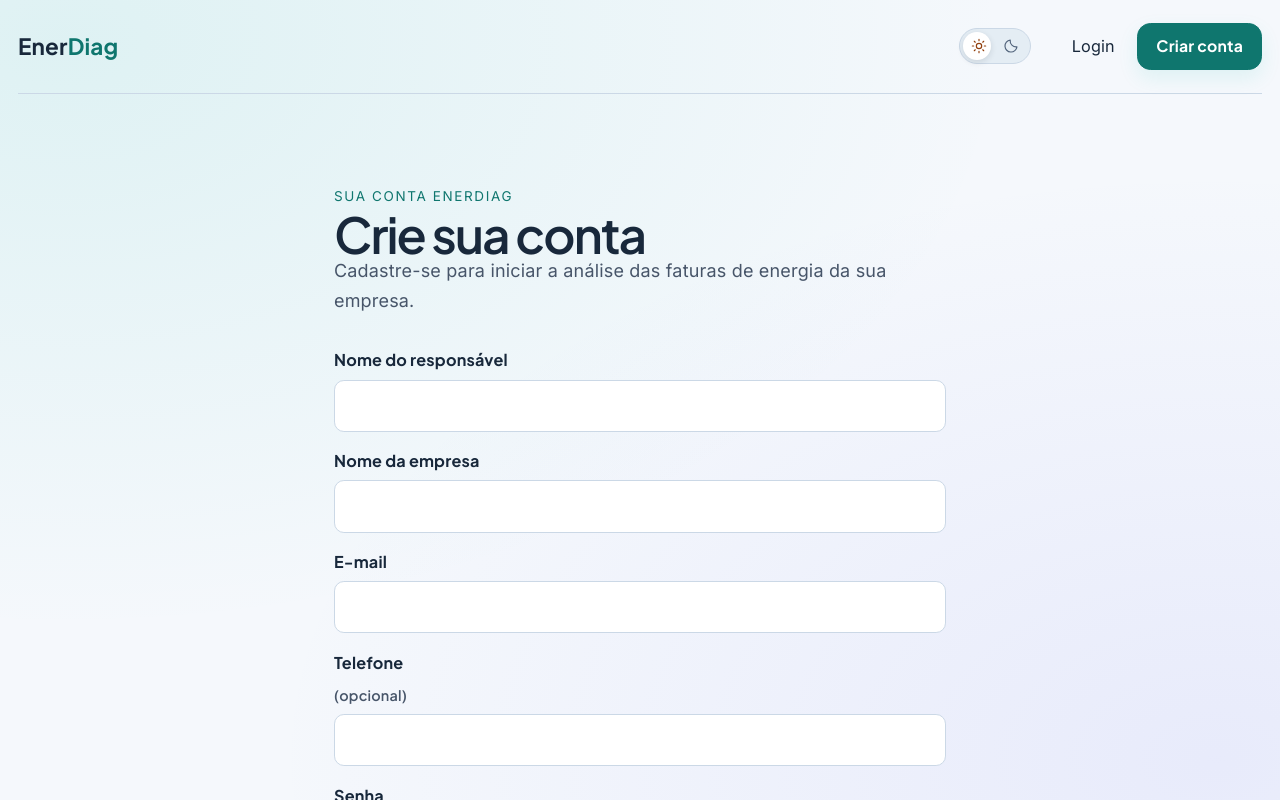
Test: customer registration › submits registration and opens email verification
Type "Ana Souza" into the field labelled "Nome do responsável" at (640, 406), box x1=334 y1=380 x2=946 y2=432
Type "Empresa Exemplo" into the field labelled "Nome da empresa" at (640, 506), box x1=334 y1=480 x2=946 y2=533
Type "ana@example.com" into the field labelled "E-mail" at (640, 607), box x1=334 y1=581 x2=946 y2=633
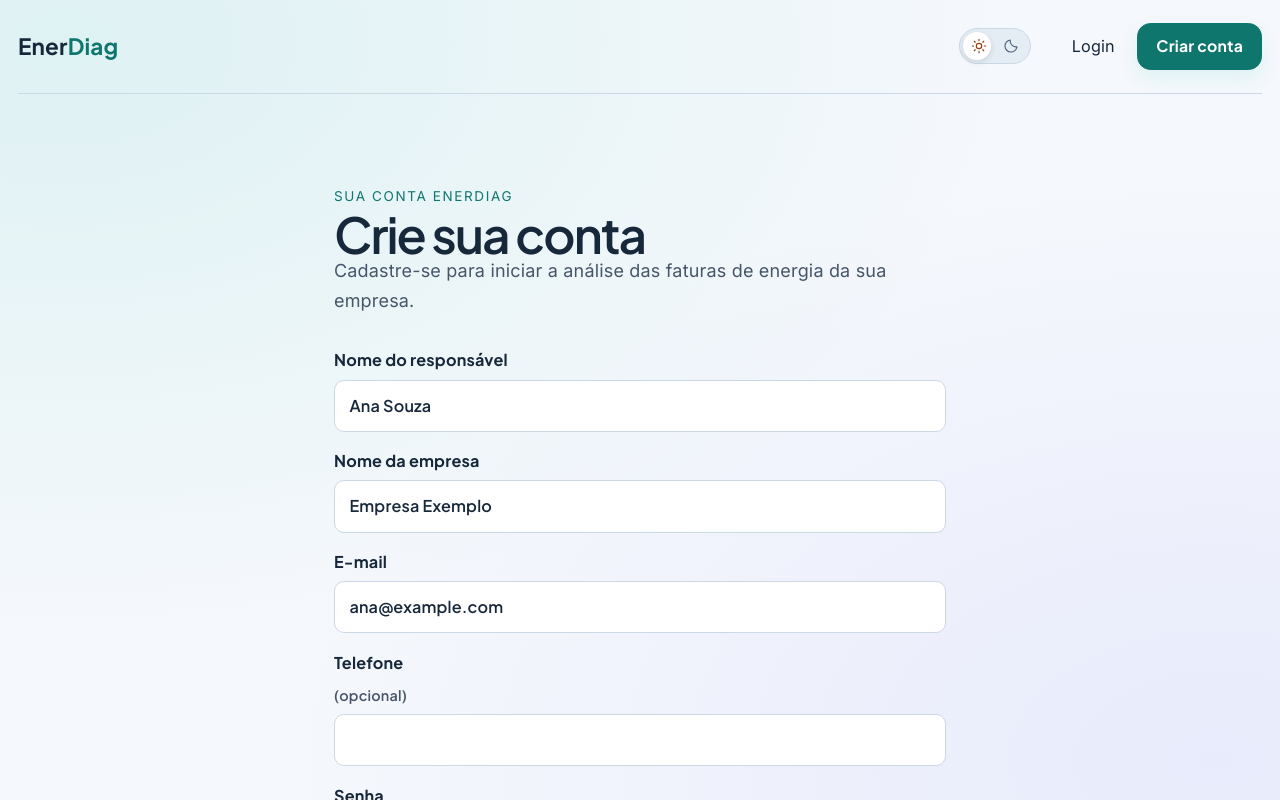
Type "11999990000" into the field labelled "Telefone (opcional)" at (640, 740), box x1=334 y1=714 x2=946 y2=766
(page scrolled)
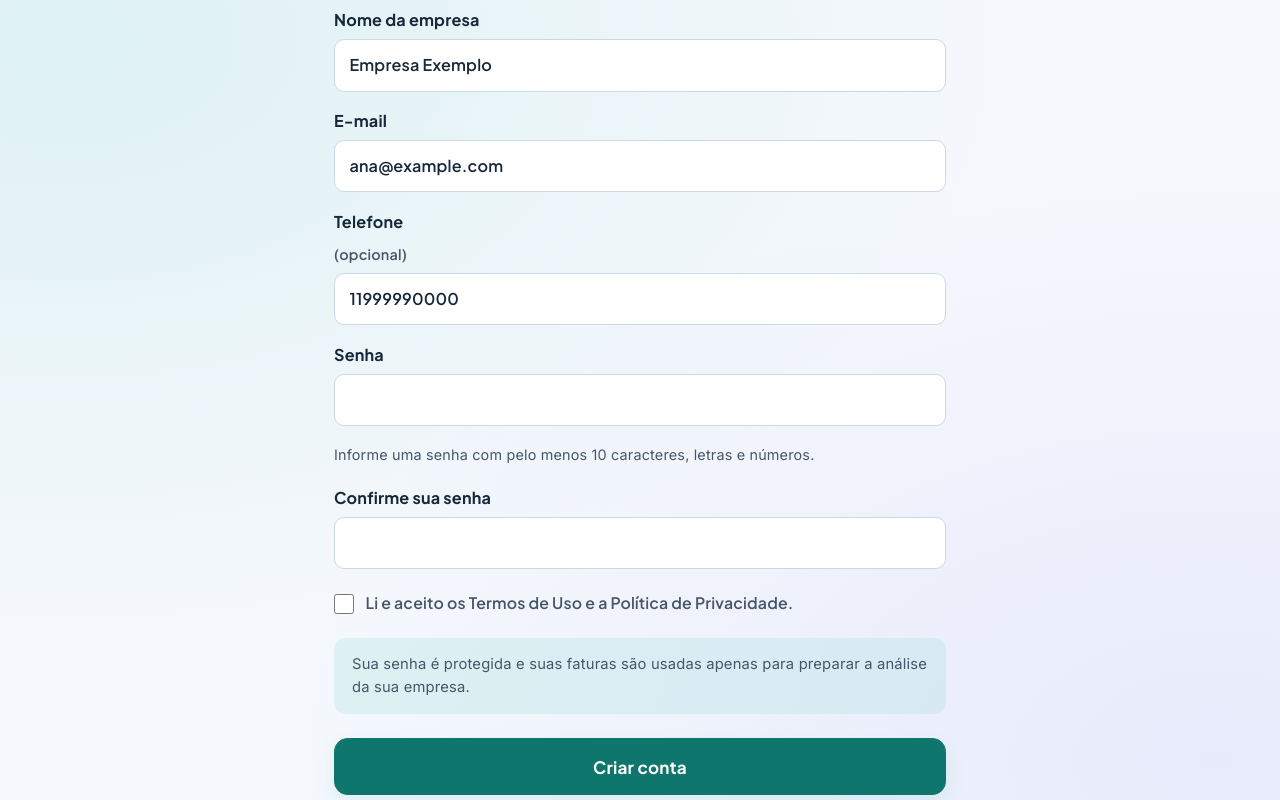
Type "EnergiaSegura2026" into the password field labelled "Senha" at (640, 400), box x1=334 y1=374 x2=946 y2=426
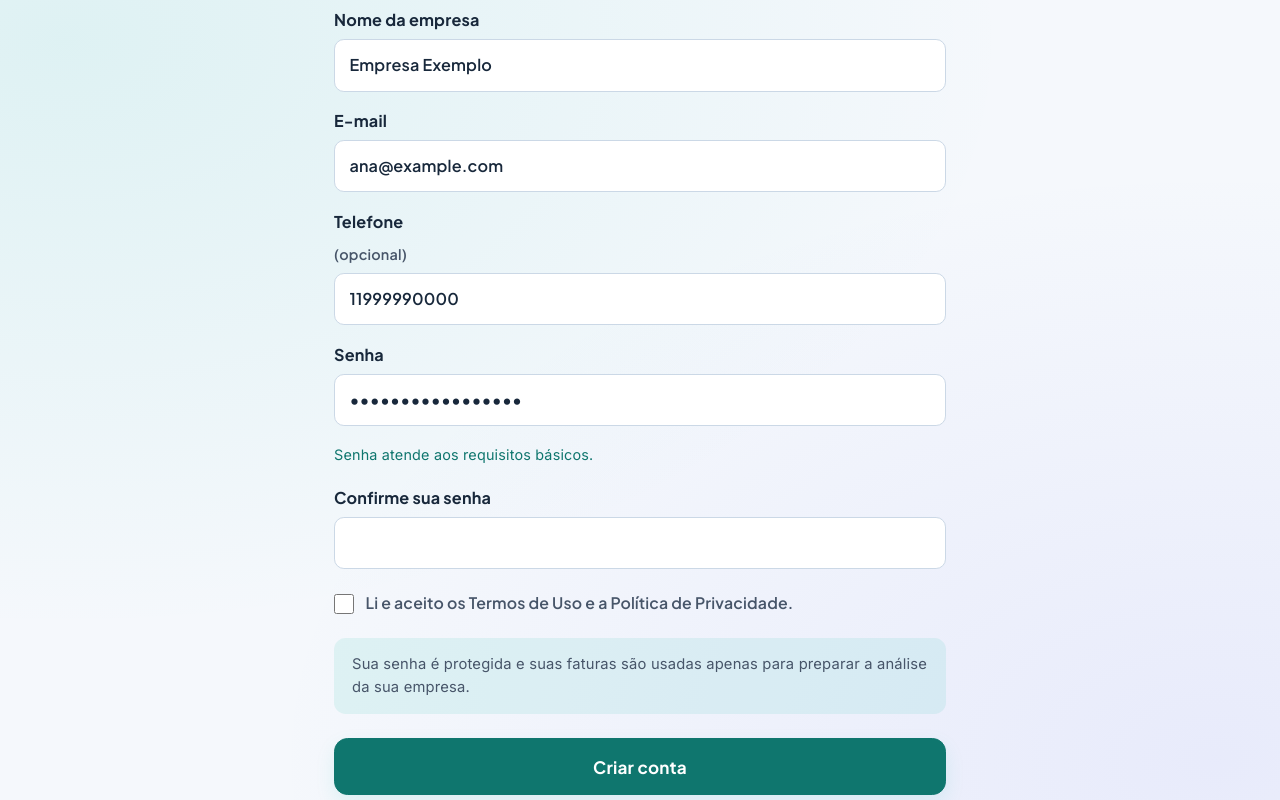
Type "EnergiaSegura2026" into the password field labelled "Confirme sua senha" at (640, 543), box x1=334 y1=517 x2=946 y2=569
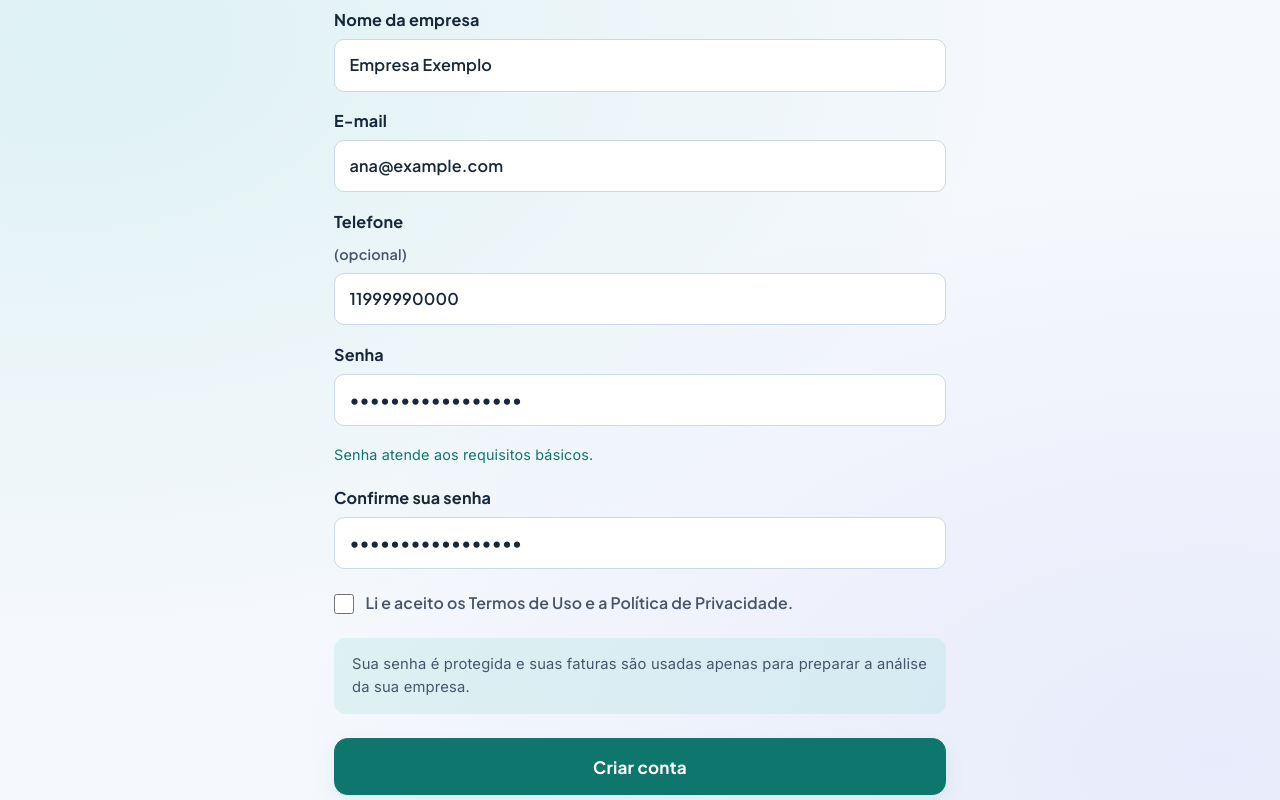
Click the checkbox labelled "Li e aceito os Termos de Uso e a Política de Privacidade." at (344, 604), box x1=334 y1=594 x2=354 y2=614
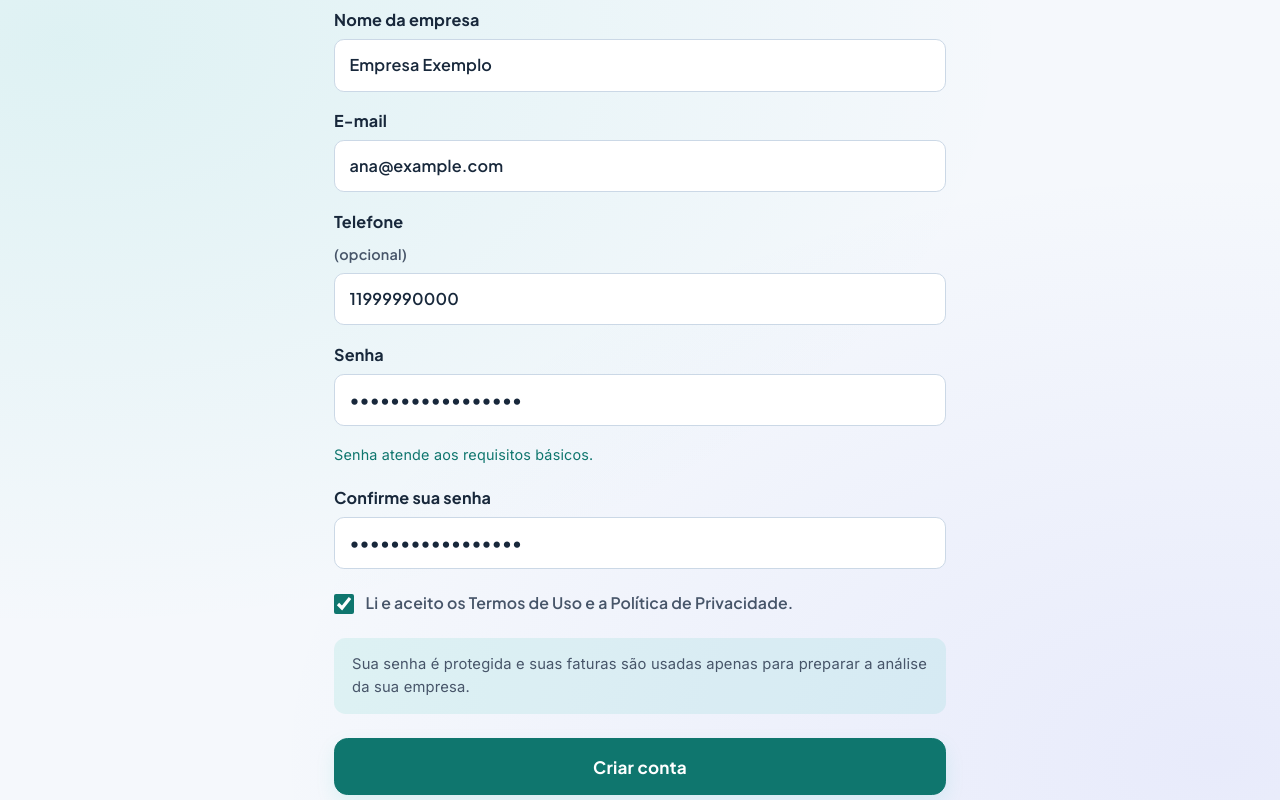
Click the button "Criar conta" at (640, 767), box x1=334 y1=738 x2=946 y2=795
(page scrolled)
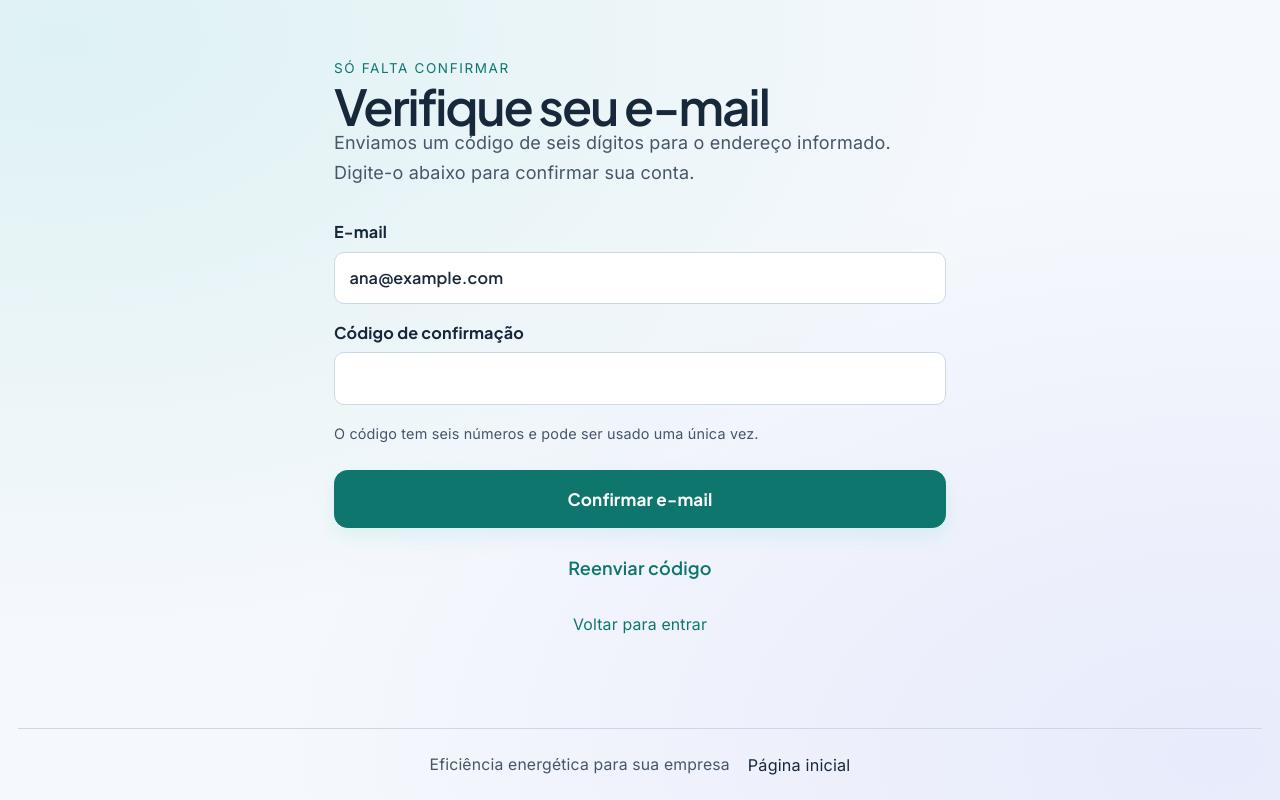
Expected: the heading "Verifique seu e-mail" is shown, x1=334 y1=75 x2=769 y2=137
